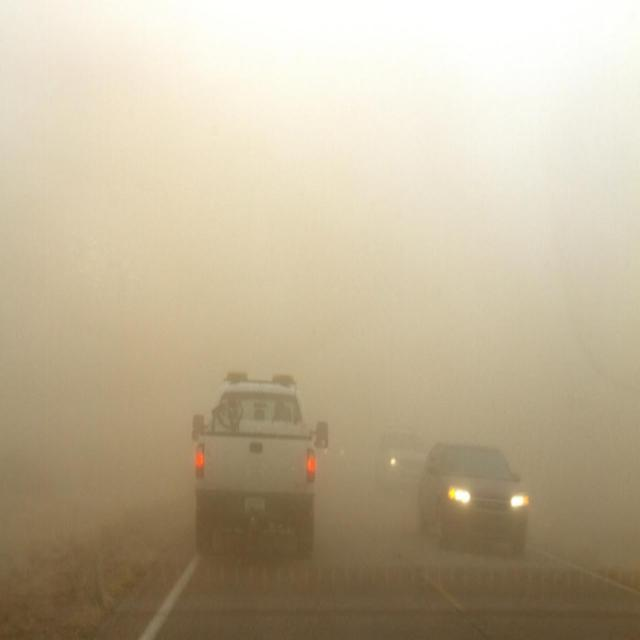Car: (417, 434, 534, 557)
Truck: (192, 368, 321, 546)
